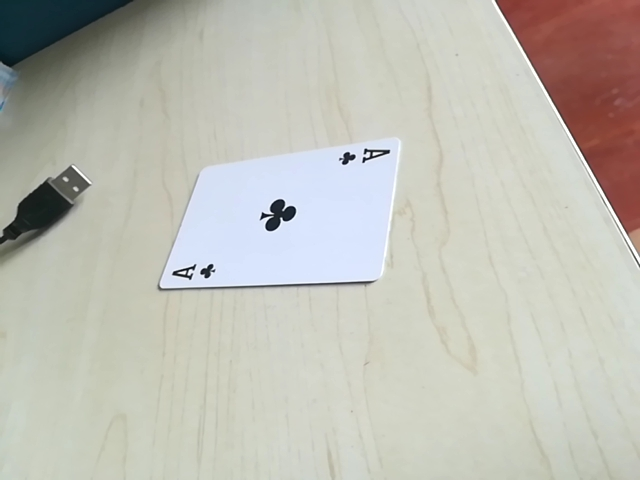mh a: (163, 258, 219, 289), (336, 144, 393, 172)
